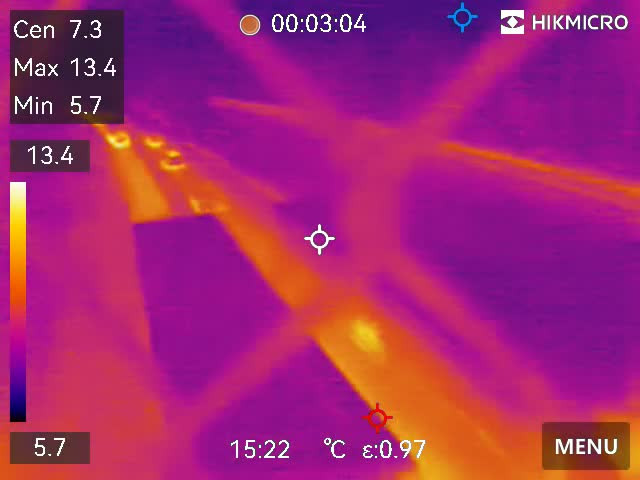heavyTruck: (121, 210, 418, 480)
